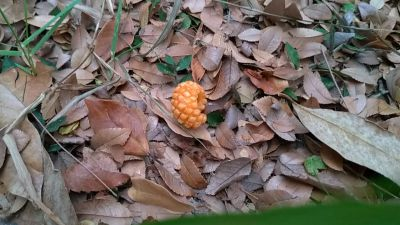eggs: (168, 77, 209, 130)
